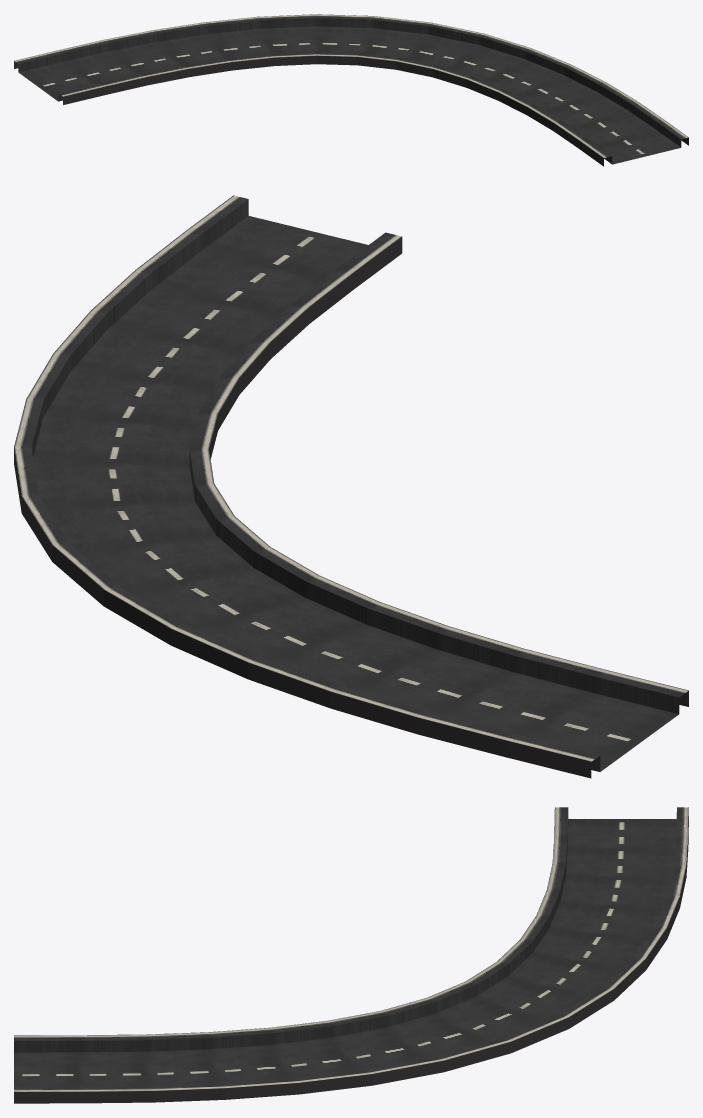
Rendered from RightCurveRoadd.gltf.
3 views of the same model, one above another, from view 1: azimuth 30°, elevation 25°; view 2: azimuth 150°, elevation 25°; view 3: azimuth 270°, elevation 25° (orthographic). The views are drawn at different scales.
Visible parts, largest first — view 1: Plane; view 2: Plane; view 3: Plane.
Part boxes in pixels (x1=…): Plane: x1=14, y1=14, x2=688, y2=166; Plane: x1=14, y1=195, x2=688, y2=778; Plane: x1=14, y1=807, x2=688, y2=1103.
Size of the model in its own units: 10.05 by 0.1889 by 10.06.
Materials: 1 (1 with a texture image).
